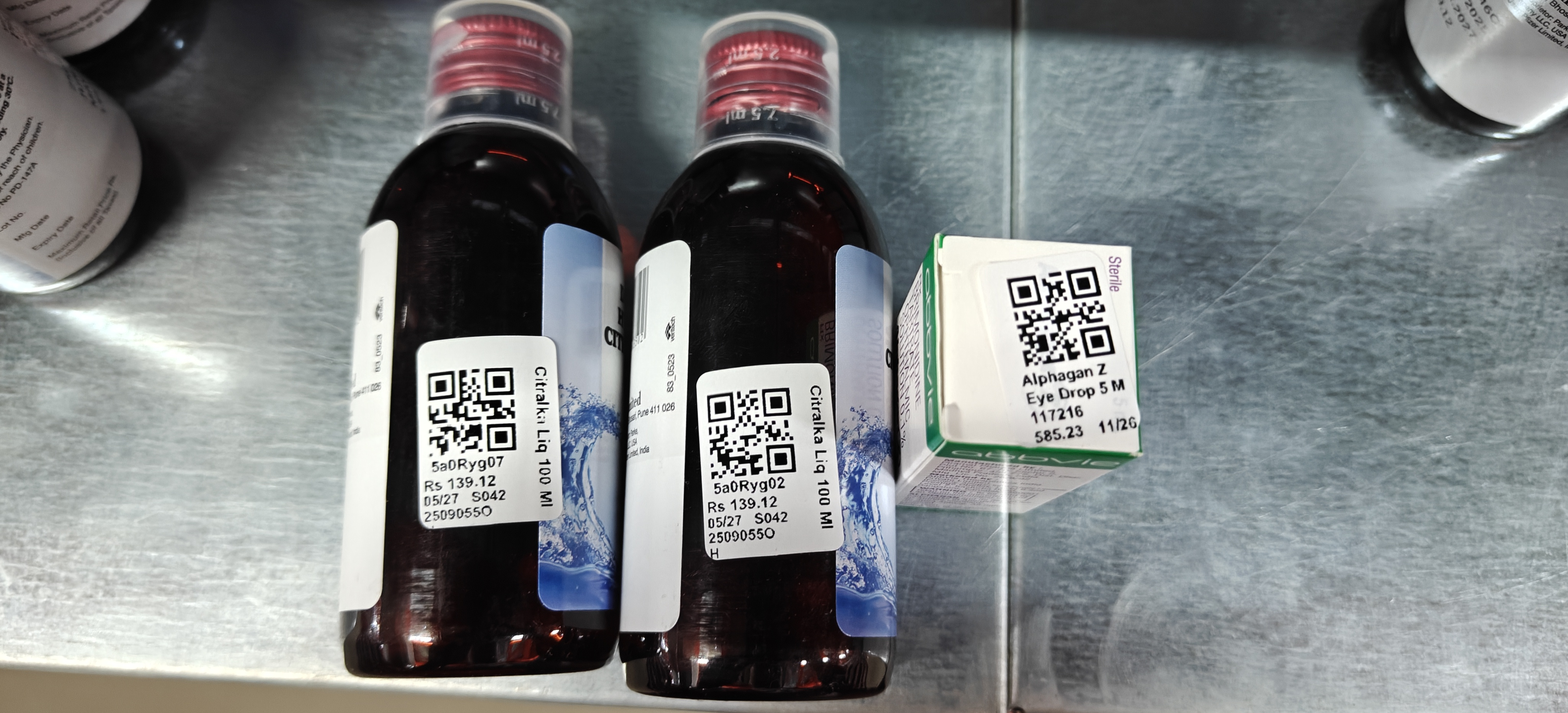qr_code: (1007, 267, 1114, 367), (707, 388, 795, 478), (429, 368, 516, 455)
